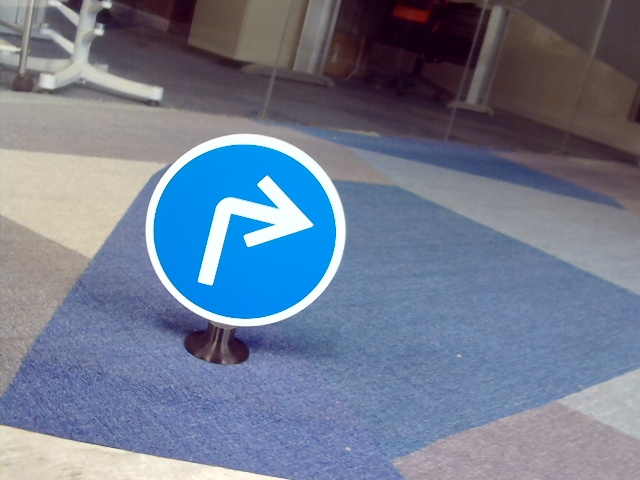turn_right: (193, 171, 306, 286)
